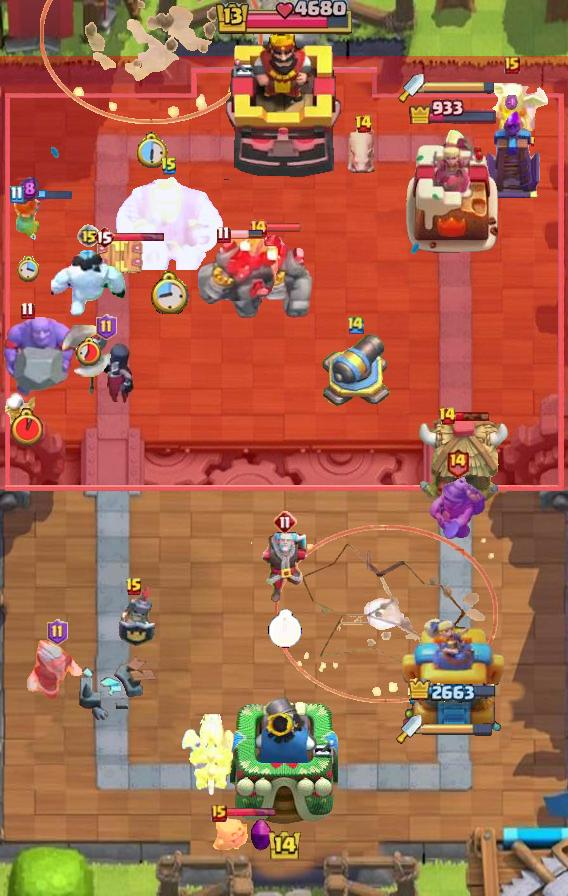archer-queen: (0, 316, 78, 398)
bandit: (426, 469, 488, 541)
bar: (403, 124, 503, 256), (402, 615, 507, 731)
bat-evolution: (212, 813, 252, 851)
cannoneer-tower: (196, 239, 278, 333), (229, 233, 315, 321)
clock: (213, 0, 355, 38)
electro-spirit: (18, 176, 39, 202), (505, 93, 519, 110)
elixir: (151, 271, 190, 314), (268, 609, 302, 648), (134, 132, 168, 169), (11, 409, 43, 448), (75, 336, 103, 366), (17, 256, 40, 283)
emote: (21, 188, 73, 201), (113, 232, 165, 244), (225, 806, 277, 818), (266, 222, 302, 233), (454, 411, 490, 422), (228, 229, 264, 239)
giant: (346, 124, 380, 180)
giant-skeleton: (114, 176, 224, 270)
goblin-brawler: (96, 236, 144, 278)
guard: (274, 525, 497, 704), (41, 0, 264, 124)
heal-spirit: (5, 392, 35, 426)
hog-rider: (9, 191, 47, 243)
ice-spirit-evolution-symbol: (483, 108, 543, 200)
king-tower: (224, 29, 344, 181), (230, 692, 338, 826)
king-tower-bar: (424, 80, 496, 94), (422, 722, 494, 736)
mini-pekka: (180, 714, 238, 798)
mortar: (245, 531, 325, 605), (27, 637, 87, 703)
poison: (472, 76, 552, 148)
prince: (415, 414, 509, 504)
princess: (111, 587, 157, 649)
rage: (51, 249, 127, 319)
rascal-boy: (76, 331, 136, 405)
royal-giant: (49, 325, 115, 377)
royal-recruit: (319, 328, 393, 414)
selected: (409, 96, 500, 124), (409, 678, 500, 705)
skeleton-king-skill: (250, 818, 272, 852)
text: (446, 447, 470, 477), (77, 224, 101, 248), (273, 510, 297, 534), (96, 314, 117, 340), (48, 619, 69, 645), (93, 225, 115, 249), (346, 313, 366, 335), (354, 114, 374, 134), (248, 218, 268, 238), (438, 406, 457, 426), (160, 156, 178, 176), (125, 577, 143, 597), (504, 56, 520, 74), (211, 804, 227, 822), (21, 301, 36, 319), (217, 225, 231, 244), (9, 185, 23, 203)
